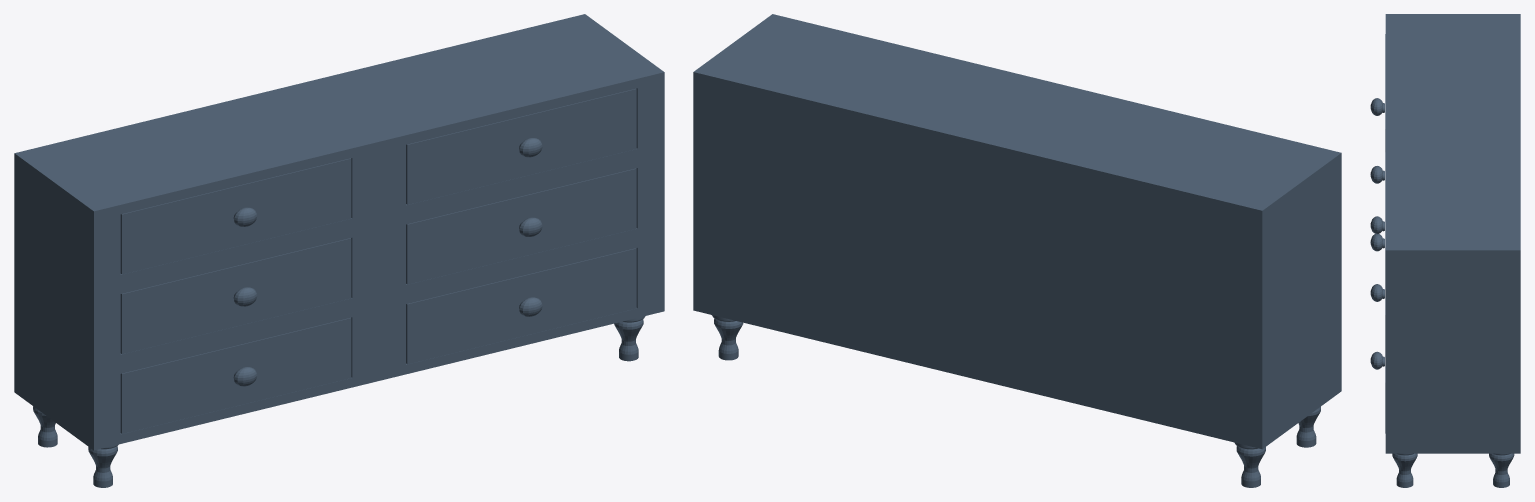
The model's file is tv drawer low.fbx.
3 views of the same model, side by side, from view 1: azimuth 30°, elevation 25°; view 2: azimuth 150°, elevation 25°; view 3: azimuth 270°, elevation 25° (orthographic). The views are drawn at different scales.
Parts seen in each view (by area): view 1: tv_drawer_04_low, tv_drawer_05_low, tv_drawer_17_low, tv_drawer_13_low, tv_drawer_14_low, tv_drawer_03_low, tv_drawer_18_low, tv_drawer_22_low, tv_drawer_10_low, tv_drawer_06_low, tv_drawer_21_low, tv_drawer_09_low (+2 smaller); view 2: tv_drawer_04_low, tv_drawer_05_low, tv_drawer_17_low, tv_drawer_13_low, tv_drawer_09_low, tv_drawer_21_low, tv_drawer_27_low, tv_drawer_26_low; view 3: tv_drawer_05_low, tv_drawer_04_low, tv_drawer_09_low, tv_drawer_21_low, tv_drawer_25_low, tv_drawer_26_low, tv_drawer_02_low, tv_drawer_07_low, tv_drawer_11_low, tv_drawer_15_low, tv_drawer_23_low, tv_drawer_19_low.
Boxes of the visible parts, x1,y1,x2,y2 form: tv_drawer_04_low: (14,83,379,290); tv_drawer_05_low: (300,14,664,221); tv_drawer_17_low: (14,301,379,450); tv_drawer_13_low: (14,221,379,370); tv_drawer_14_low: (120,238,351,354); tv_drawer_03_low: (120,158,351,274); tv_drawer_18_low: (120,317,351,433); tv_drawer_22_low: (406,248,636,364); tv_drawer_10_low: (406,168,636,284); tv_drawer_06_low: (406,88,636,204); tv_drawer_21_low: (379,231,664,380); tv_drawer_09_low: (379,152,664,300); tv_drawer_04_low: (978,83,1341,290); tv_drawer_05_low: (693,14,1056,220); tv_drawer_17_low: (978,300,1341,449); tv_drawer_13_low: (978,221,1341,369); tv_drawer_09_low: (693,151,977,300); tv_drawer_21_low: (693,231,977,379); tv_drawer_27_low: (1234,442,1265,487); tv_drawer_26_low: (712,315,743,360); tv_drawer_05_low: (1385,132,1520,318); tv_drawer_04_low: (1385,14,1520,132); tv_drawer_09_low: (1385,318,1520,385); tv_drawer_21_low: (1385,386,1520,453); tv_drawer_25_low: (1392,453,1417,487); tv_drawer_26_low: (1489,453,1514,487); tv_drawer_02_low: (1370,98,1382,115); tv_drawer_07_low: (1370,216,1382,234); tv_drawer_11_low: (1370,284,1382,301); tv_drawer_15_low: (1370,166,1382,183); tv_drawer_23_low: (1370,351,1382,369); tv_drawer_19_low: (1370,234,1382,251).
Size of the model in its own units: 174 by 83.55 by 46.55.
